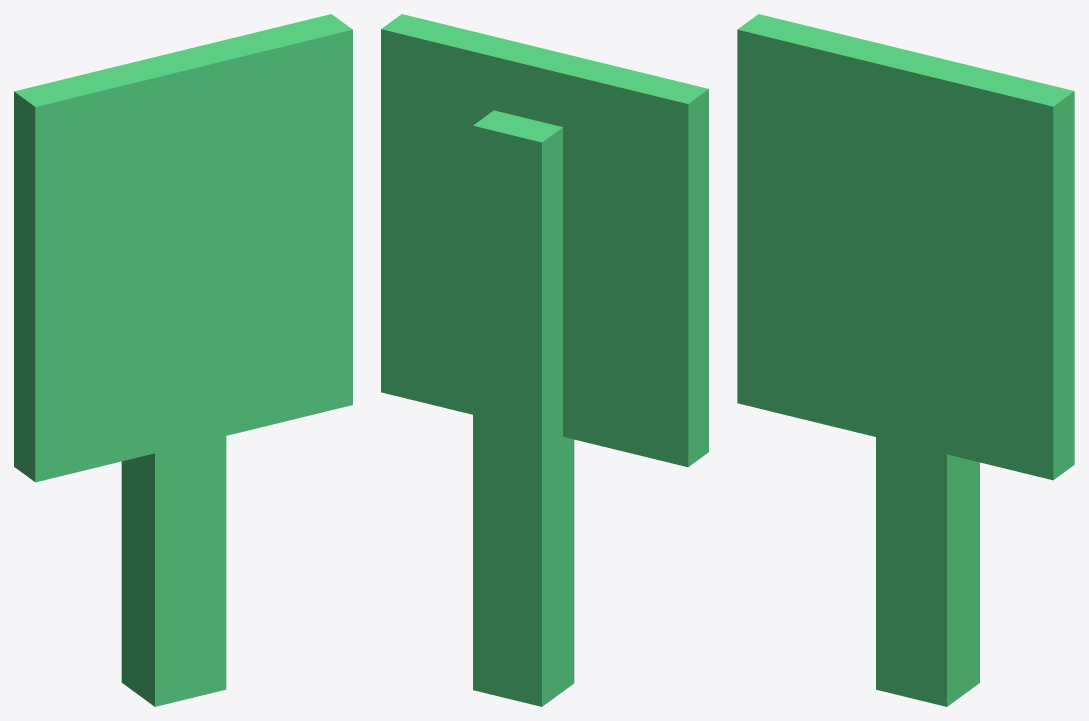
The model's file is sign.fbx.
3 renders of one model, left to right at view 1: azimuth 30°, elevation 25°; view 2: azimuth 150°, elevation 25°; view 3: azimuth 330°, elevation 25°, orthographic. The views are drawn at different scales.
Parts seen in each view (by area): view 1: Cube.001, Cube; view 2: Cube.001, Cube; view 3: Cube.001, Cube.
Part boxes in pixels (left/top/right/bottom): Cube.001: left=14, top=14, right=352, bottom=482; Cube: left=121, top=436, right=226, bottom=706; Cube.001: left=381, top=14, right=708, bottom=467; Cube: left=473, top=110, right=574, bottom=706; Cube.001: left=737, top=14, right=1074, bottom=480; Cube: left=876, top=437, right=979, bottom=706.
Bounding box in the file's own units: 253 × 486 × 59.44.
